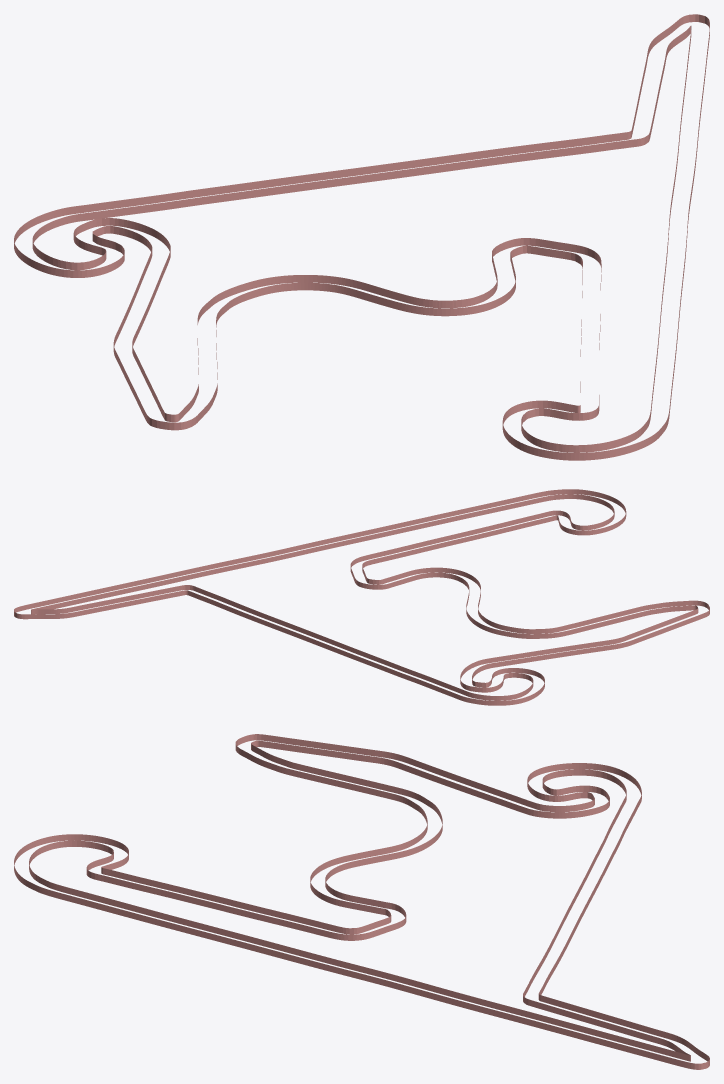
File: SHANGHAI_TRACK.dae
3 views of the same model, one above another, from view 1: azimuth 30°, elevation 25°; view 2: azimuth 150°, elevation 25°; view 3: azimuth 270°, elevation 25° (orthographic). The views are drawn at different scales.
Parts seen in each view (by area): view 1: Curve.003; view 2: Curve.003; view 3: Curve.003.
Part boxes in pixels (x1,y1,x2,y2): Curve.003: [14, 14, 709, 460]; Curve.003: [14, 489, 709, 705]; Curve.003: [14, 734, 709, 1069].
Bounding box in the file's own units: 113 × 101 × 1.
